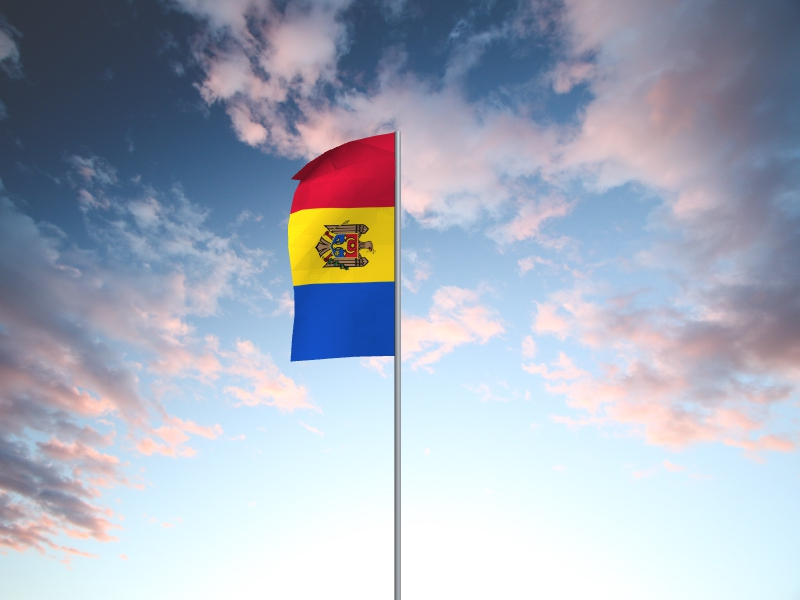md: (287, 133, 395, 364)
